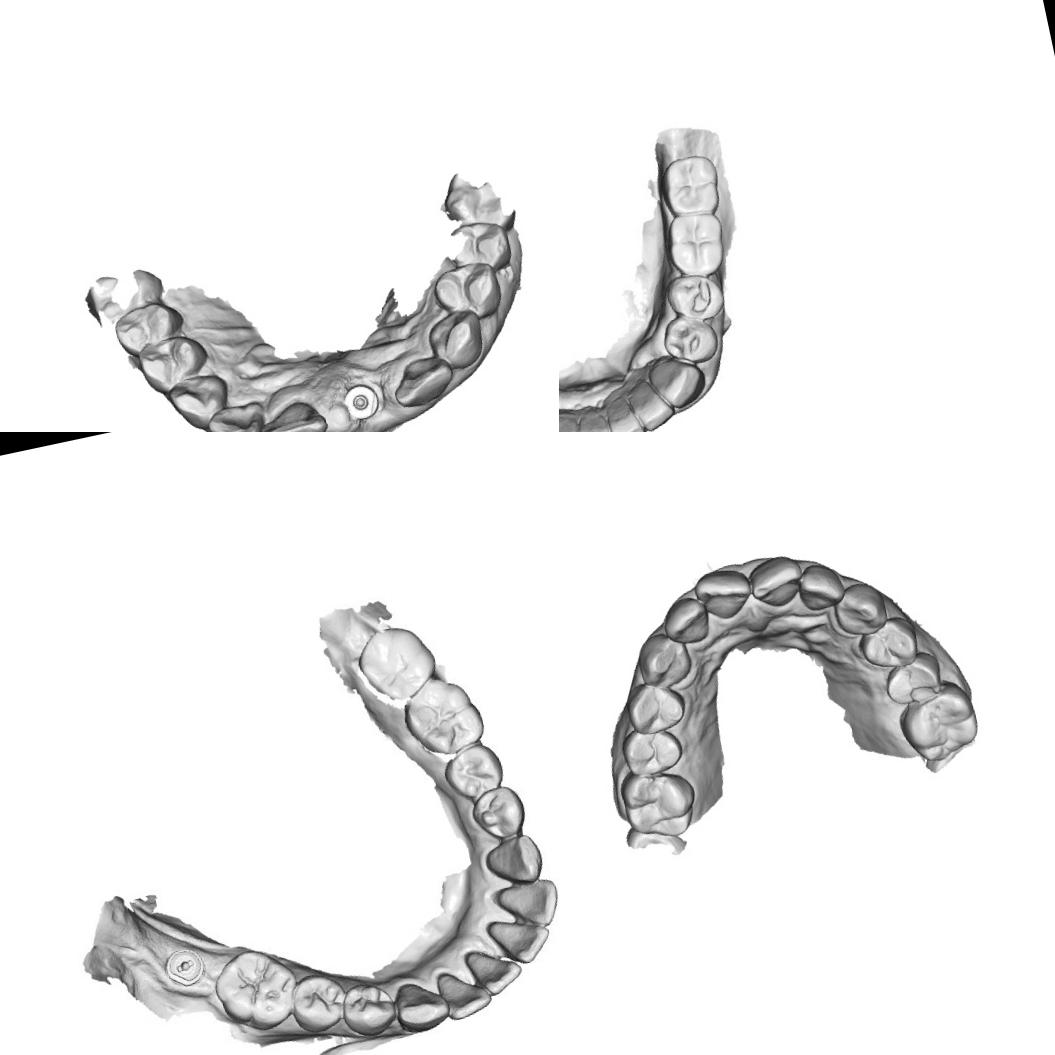canine: (423, 304, 491, 376), (162, 367, 236, 430), (478, 826, 545, 890), (645, 350, 710, 415), (828, 576, 892, 642), (632, 628, 696, 693), (389, 973, 454, 1036)
implant: (336, 370, 384, 426)
implant_minus: (160, 943, 207, 990)
incisor: (386, 350, 460, 413), (483, 907, 554, 972), (486, 872, 559, 935), (689, 563, 756, 626), (462, 939, 528, 1002), (742, 550, 808, 613), (433, 962, 494, 1023), (790, 558, 848, 616), (658, 592, 716, 650), (252, 393, 333, 432), (626, 376, 678, 432), (201, 396, 272, 432), (601, 389, 647, 432), (569, 402, 619, 432), (559, 409, 585, 432)
molar: (206, 940, 304, 1040), (891, 674, 986, 769), (350, 616, 442, 708), (615, 757, 703, 846), (398, 676, 487, 763), (432, 160, 522, 243), (78, 262, 170, 331), (660, 206, 732, 282), (654, 150, 726, 224)
premolar: (428, 256, 510, 331), (134, 328, 215, 393), (108, 296, 190, 359), (443, 212, 516, 280), (438, 736, 508, 804), (285, 968, 351, 1038), (853, 612, 924, 676), (878, 647, 948, 710), (616, 719, 687, 780), (656, 308, 724, 371), (622, 676, 690, 739), (466, 782, 532, 846), (338, 978, 402, 1042), (662, 269, 729, 327)
